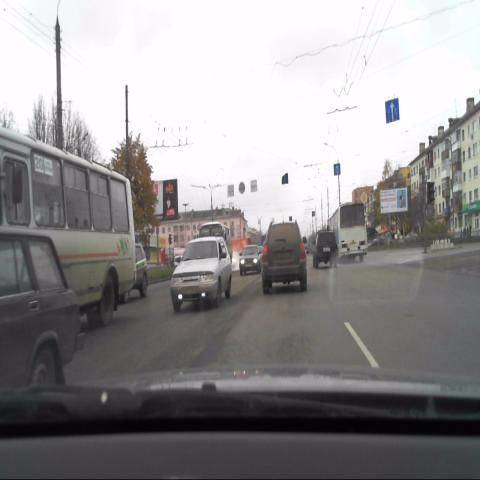5_15_2: (385, 97, 399, 123)
